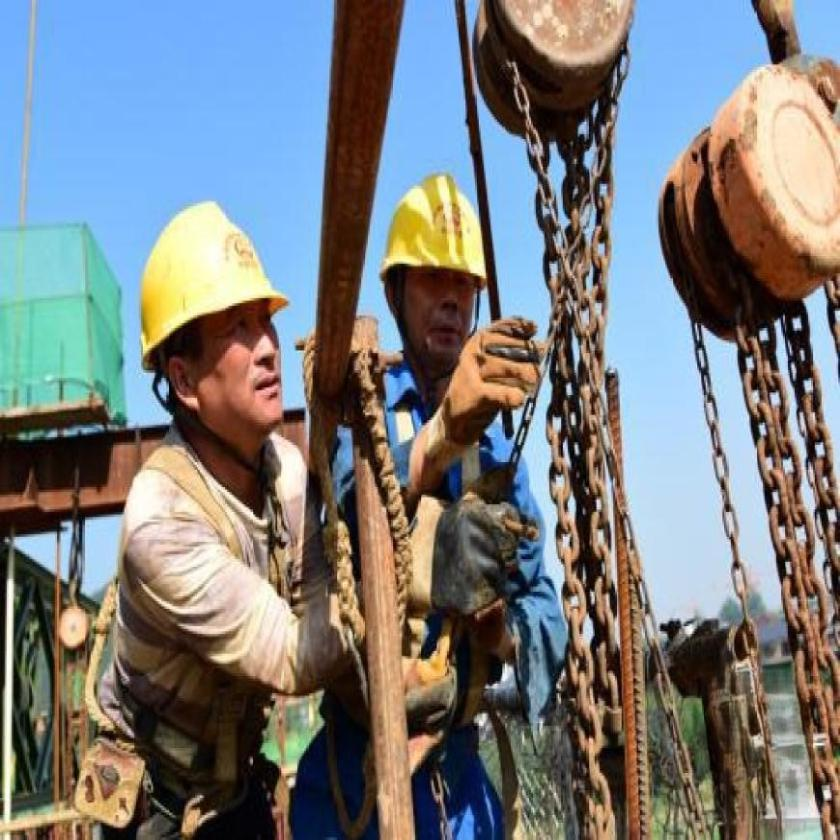Con_casco: (138, 178, 306, 478), (374, 164, 493, 367)
